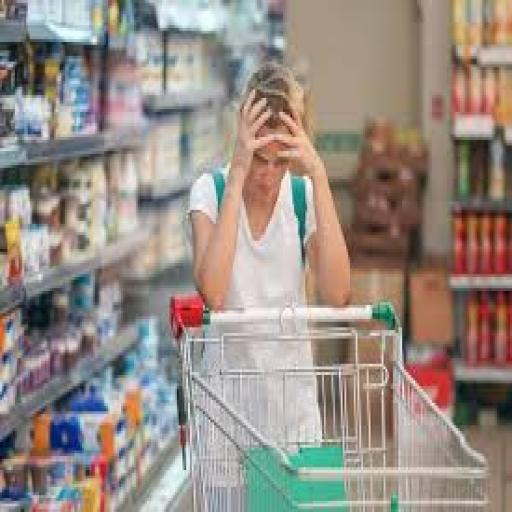shopping_cart: (168, 295, 488, 512)
